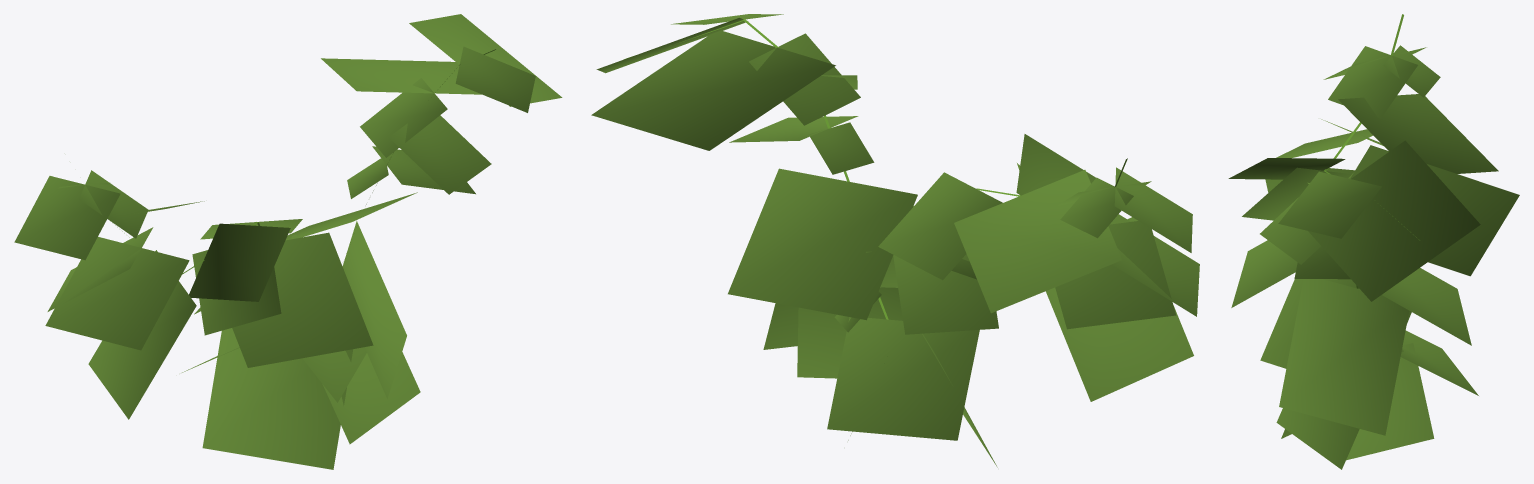
File: Vine3.fbx
The picture shows the model from 3 angles, left to right: view 1: azimuth 30°, elevation 25°; view 2: azimuth 150°, elevation 25°; view 3: azimuth 270°, elevation 25°; orthographic projection. The views are drawn at different scales.
Visible parts, largest first — view 1: NurbsPath.002; view 2: NurbsPath.002; view 3: NurbsPath.002.
Part boxes in pixels (bbox=[...]): NurbsPath.002: bbox=[14, 14, 562, 469]; NurbsPath.002: bbox=[591, 14, 1199, 467]; NurbsPath.002: bbox=[1228, 14, 1519, 469].
Size of the model in its own units: 372 by 243 by 176.
